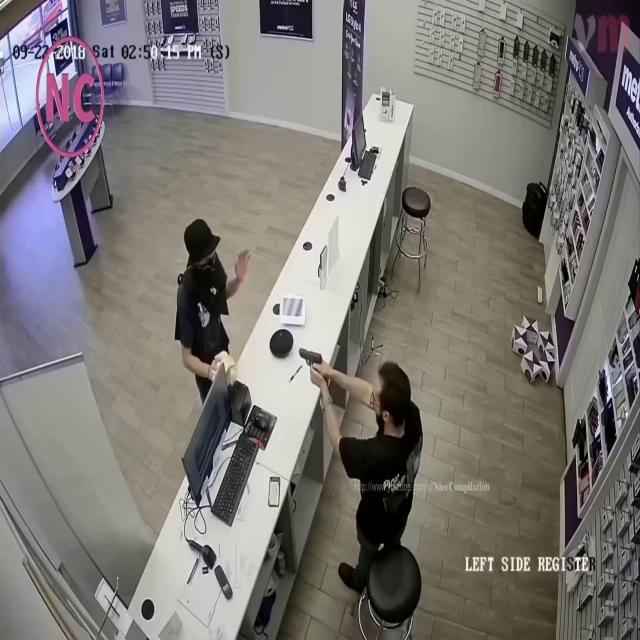pistol: (297, 344, 323, 370)
